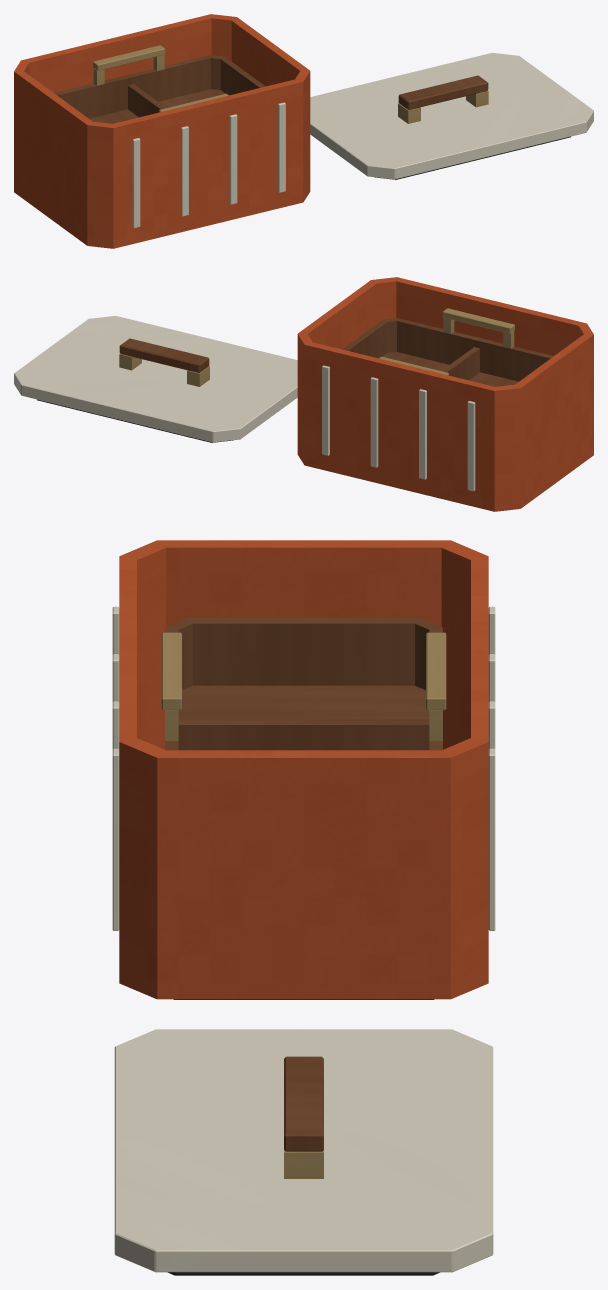
File: AST-RTL-004__open_lid_parked.glb
The picture shows the model from 3 angles, top to bottom: view 1: azimuth 30°, elevation 25°; view 2: azimuth 150°, elevation 25°; view 3: azimuth 270°, elevation 25°; orthographic projection. The views are drawn at different scales.
Parts seen in each view (by area): view 1: AST-RTL-004__fixed__retail_terracotta_enamel, AST-RTL-004__lid__ivory_enamel, AST-RTL-004__carrier__warm_walnut, AST-RTL-004__fixed__ivory_enamel, AST-RTL-004__lid__warm_walnut, AST-RTL-004__carrier__champagne_metal, AST-RTL-004__lid__champagne_metal; view 2: AST-RTL-004__fixed__retail_terracotta_enamel, AST-RTL-004__lid__ivory_enamel, AST-RTL-004__carrier__warm_walnut, AST-RTL-004__fixed__ivory_enamel, AST-RTL-004__lid__warm_walnut, AST-RTL-004__carrier__champagne_metal, AST-RTL-004__lid__champagne_metal; view 3: AST-RTL-004__fixed__retail_terracotta_enamel, AST-RTL-004__lid__ivory_enamel, AST-RTL-004__carrier__warm_walnut, AST-RTL-004__fixed__ivory_enamel, AST-RTL-004__carrier__champagne_metal, AST-RTL-004__lid__warm_walnut, AST-RTL-004__lid__champagne_metal, AST-RTL-004__lid__dark_rubber.
Boxes of the visible parts, x1,y1,x2,y2 form: AST-RTL-004__fixed__retail_terracotta_enamel: (14, 14, 310, 248); AST-RTL-004__lid__ivory_enamel: (310, 52, 593, 179); AST-RTL-004__carrier__warm_walnut: (54, 55, 265, 123); AST-RTL-004__fixed__ivory_enamel: (132, 102, 285, 228); AST-RTL-004__lid__warm_walnut: (398, 75, 488, 109); AST-RTL-004__carrier__champagne_metal: (93, 45, 228, 112); AST-RTL-004__lid__champagne_metal: (398, 90, 488, 123); AST-RTL-004__fixed__retail_terracotta_enamel: (297, 277, 593, 511); AST-RTL-004__lid__ivory_enamel: (14, 315, 297, 442); AST-RTL-004__carrier__warm_walnut: (342, 318, 553, 386); AST-RTL-004__fixed__ivory_enamel: (322, 365, 475, 491); AST-RTL-004__lid__warm_walnut: (119, 338, 209, 372); AST-RTL-004__carrier__champagne_metal: (379, 308, 514, 375); AST-RTL-004__lid__champagne_metal: (119, 353, 209, 386); AST-RTL-004__fixed__retail_terracotta_enamel: (119, 540, 488, 999); AST-RTL-004__lid__ivory_enamel: (114, 1029, 493, 1272); AST-RTL-004__carrier__warm_walnut: (165, 618, 442, 750); AST-RTL-004__fixed__ivory_enamel: (112, 606, 495, 930); AST-RTL-004__carrier__champagne_metal: (161, 632, 446, 740); AST-RTL-004__lid__warm_walnut: (284, 1056, 323, 1151); AST-RTL-004__lid__champagne_metal: (284, 1150, 323, 1178); AST-RTL-004__lid__dark_rubber: (168, 1272, 439, 1275).
Size of the model in its own units: 1.04 by 0.25 by 0.342.
Materials: 5 (5 with a texture image).
